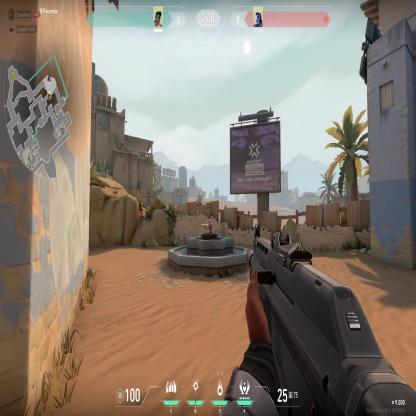enemy: (204, 219, 214, 232)
